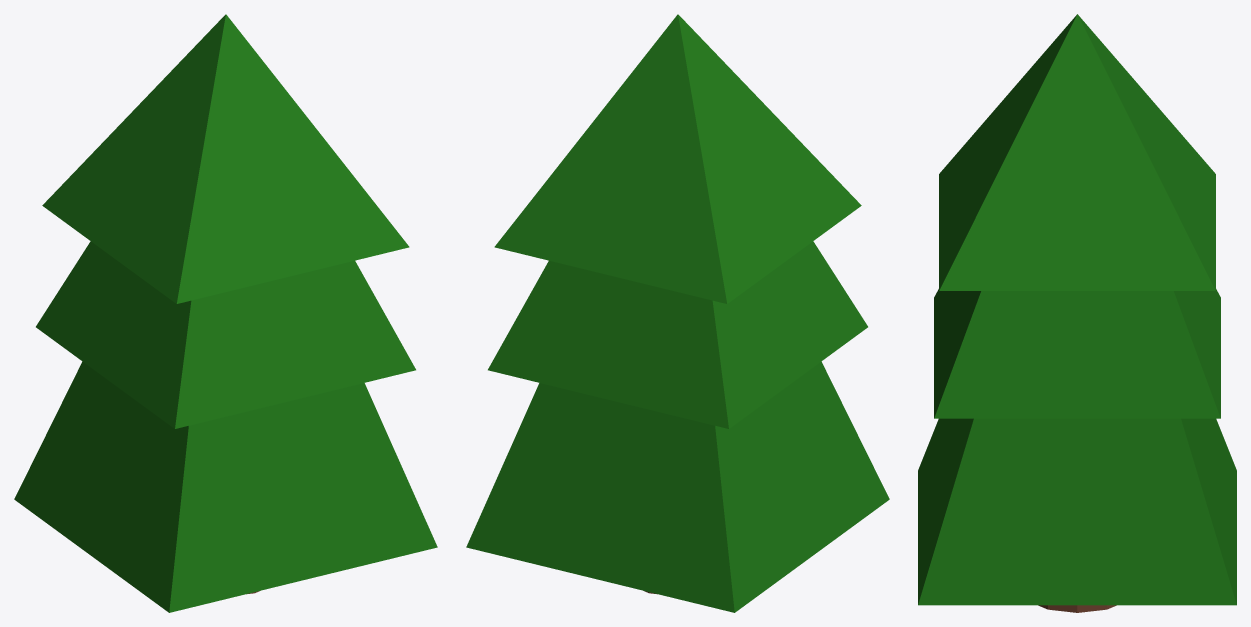
File: Tree_18_summer_vc.fbx
3 views of the same model, side by side, from view 1: azimuth 30°, elevation 25°; view 2: azimuth 150°, elevation 25°; view 3: azimuth 270°, elevation 25° (orthographic). The views are drawn at different scales.
Visible parts, largest first — view 1: Tree_18_summer_vc; view 2: Tree_18_summer_vc; view 3: Tree_18_summer_vc.
Part boxes in pixels (left/top/right/bottom): Tree_18_summer_vc: left=14, top=14, right=437, bottom=612; Tree_18_summer_vc: left=466, top=14, right=889, bottom=612; Tree_18_summer_vc: left=918, top=14, right=1236, bottom=612.
Size of the model in its own units: 2.5 by 4.96 by 2.5.
